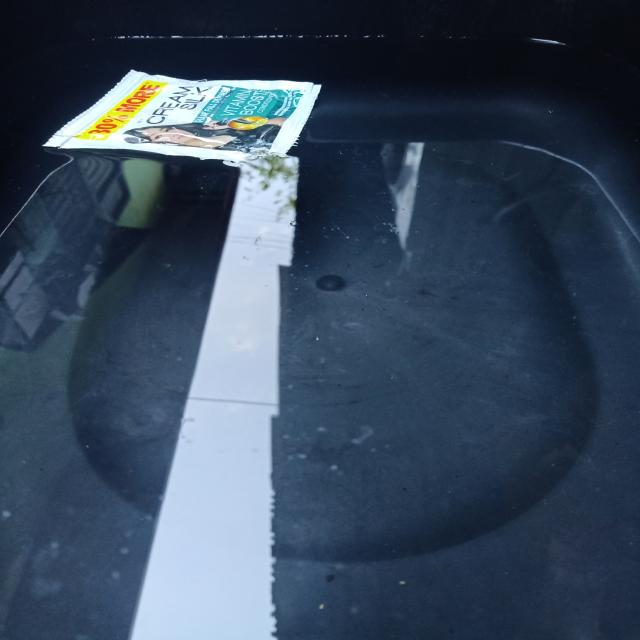Plastic Wrapper: (32, 50, 352, 186)
